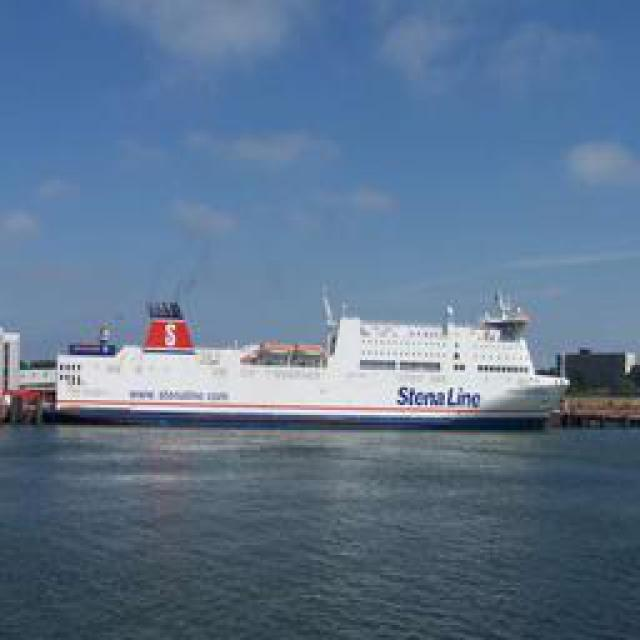Ship: (39, 285, 569, 428)
